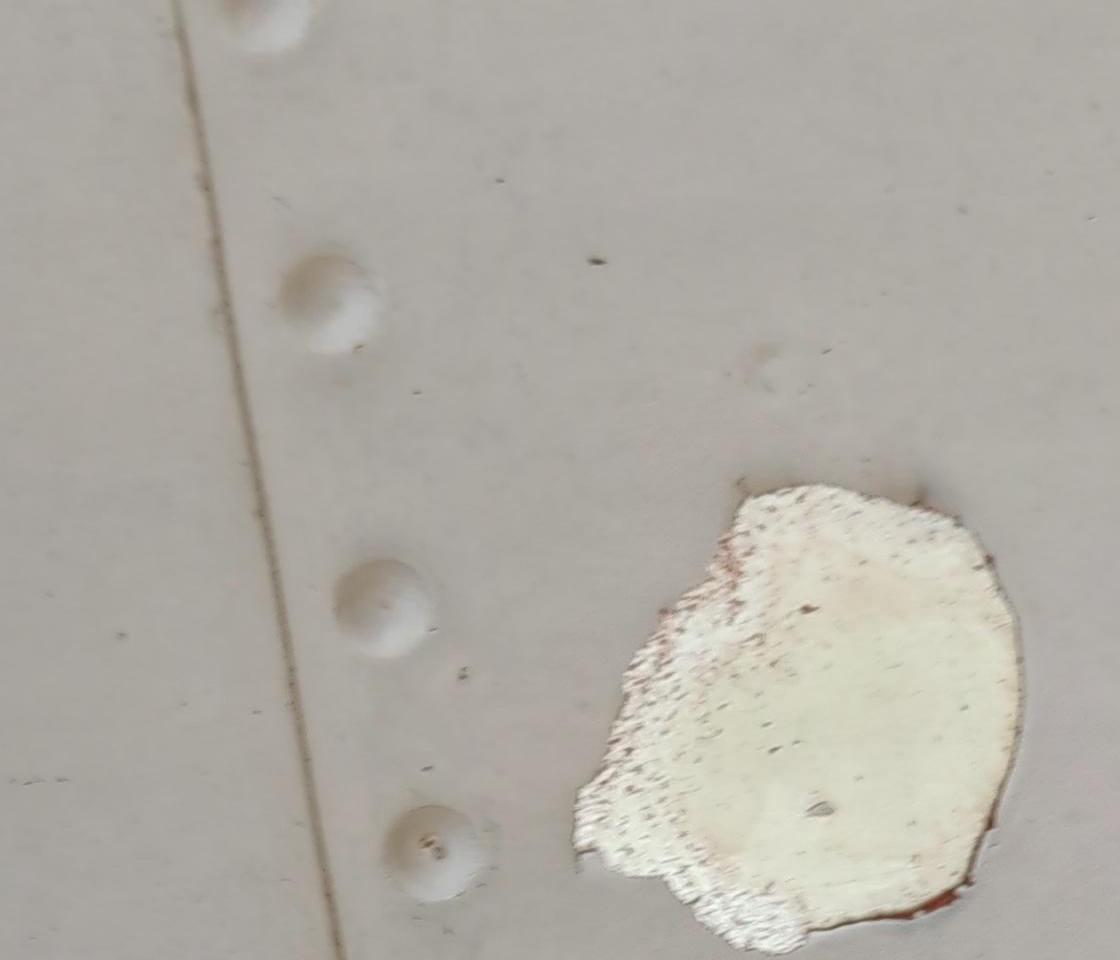paint_peel: (563, 482, 1029, 950)
